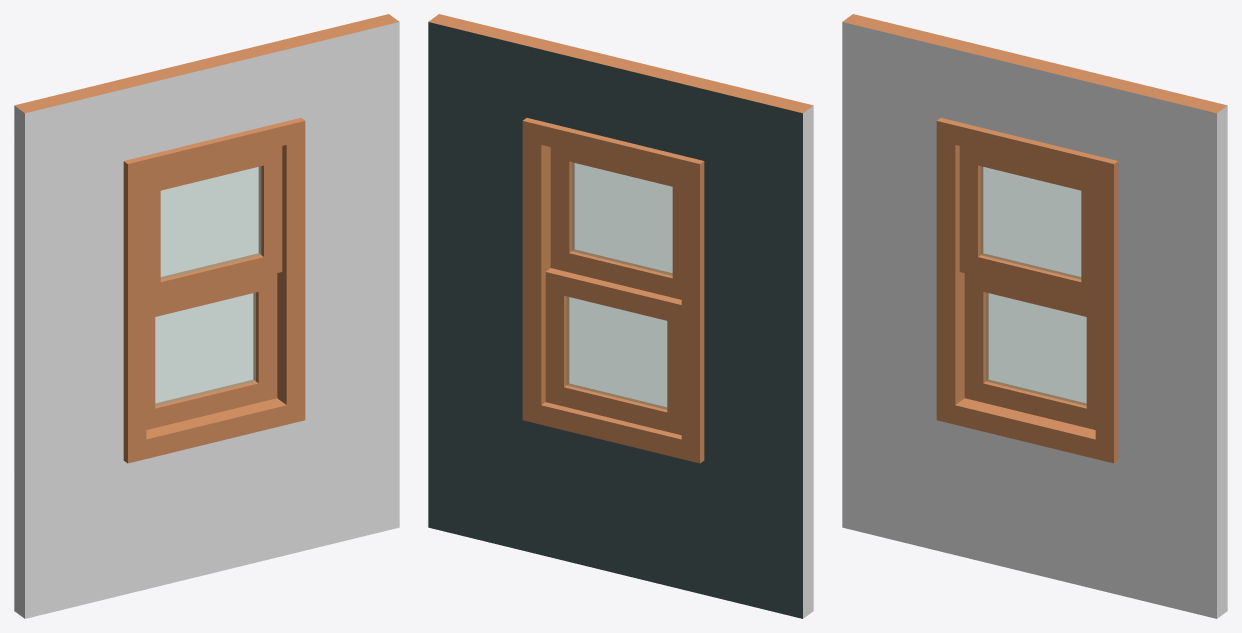
3 views of the same model, side by side, from view 1: azimuth 30°, elevation 25°; view 2: azimuth 150°, elevation 25°; view 3: azimuth 330°, elevation 25° (orthographic).
Parts seen in each view (by area): view 1: wallWindowSlide(Clone), windowTop, windowBottom; view 2: wallWindowSlide(Clone), windowBottom, windowTop; view 3: wallWindowSlide(Clone), windowTop, windowBottom.
Boxes of the visible parts, bbox=[...] form: wallWindowSlide(Clone): bbox=[14, 14, 399, 618]; windowTop: bbox=[146, 146, 282, 304]; windowBottom: bbox=[146, 273, 277, 429]; wallWindowSlide(Clone): bbox=[428, 14, 813, 618]; windowBottom: bbox=[545, 268, 681, 435]; windowTop: bbox=[550, 147, 681, 299]; wallWindowSlide(Clone): bbox=[842, 14, 1227, 618]; windowTop: bbox=[959, 146, 1095, 304]; windowBottom: bbox=[964, 273, 1095, 429].
Size of the model in its own units: 1 by 1.29 by 0.0891.
